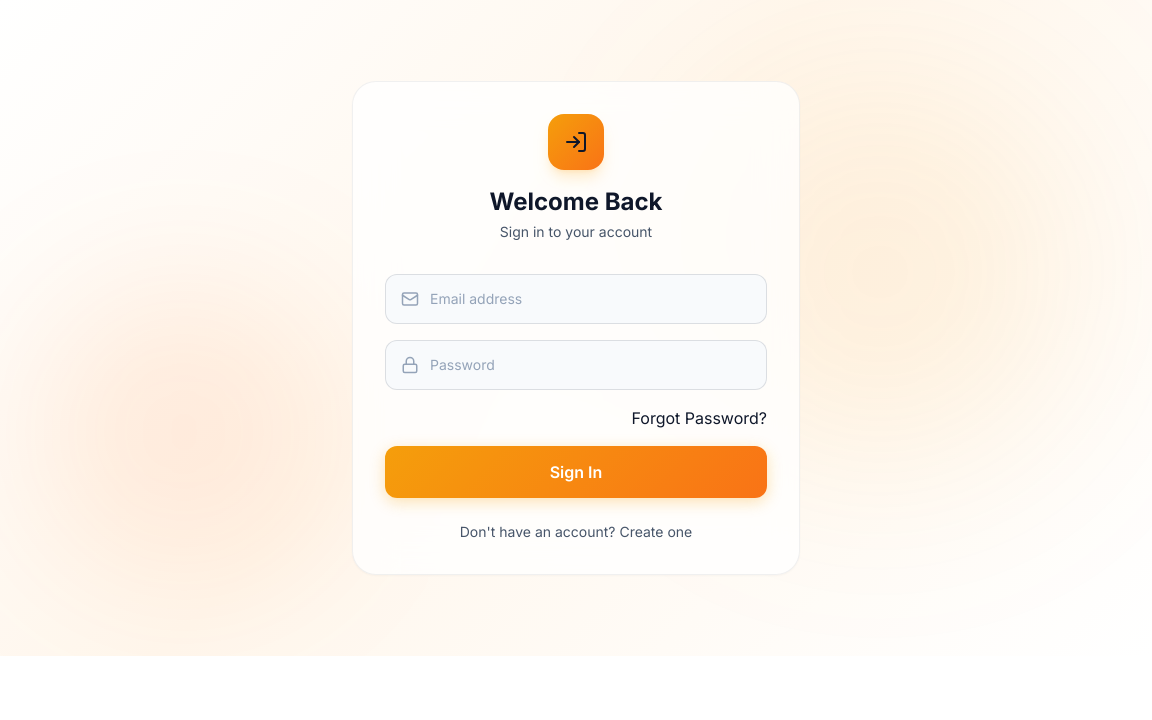
Test: Login error messages › still explains a lockout (423)
Type "rider@example.com" into the field with placeholder "Email address" at {"x": 576, "y": 299}, box [385, 274, 767, 324]
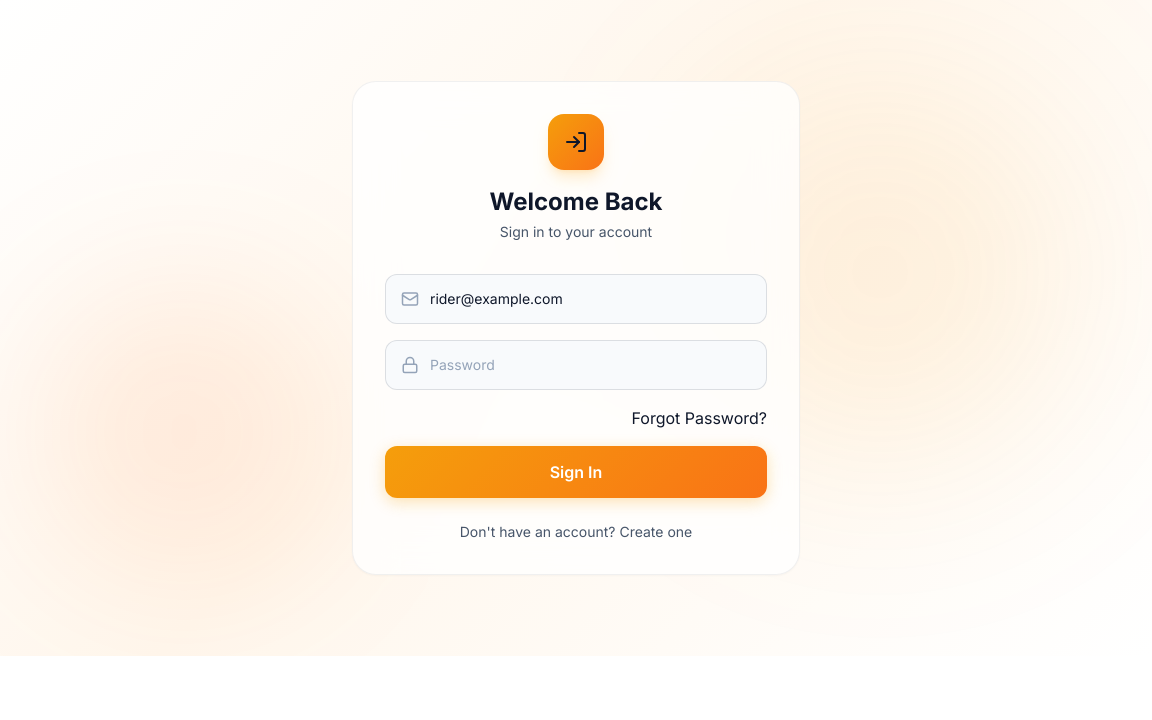
Type "wrong-password" into the password field with placeholder "Password" at {"x": 576, "y": 365}, box [385, 340, 767, 390]
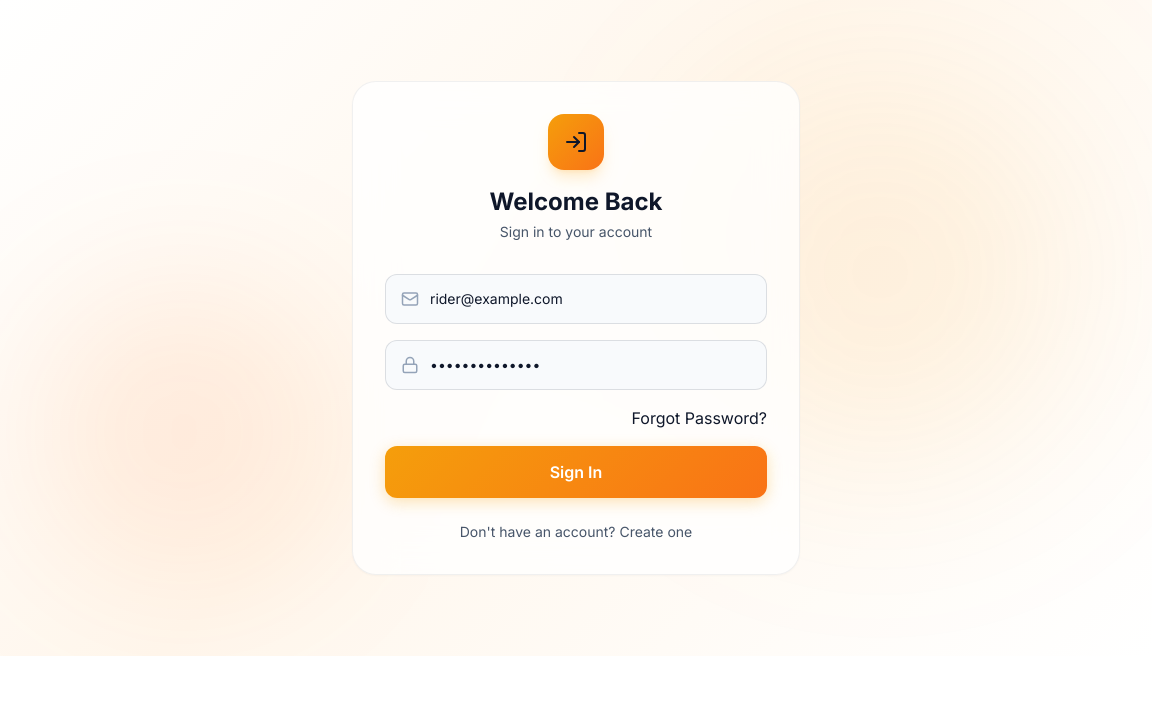
Click the button "Sign In" at {"x": 576, "y": 472}, box [385, 446, 767, 498]
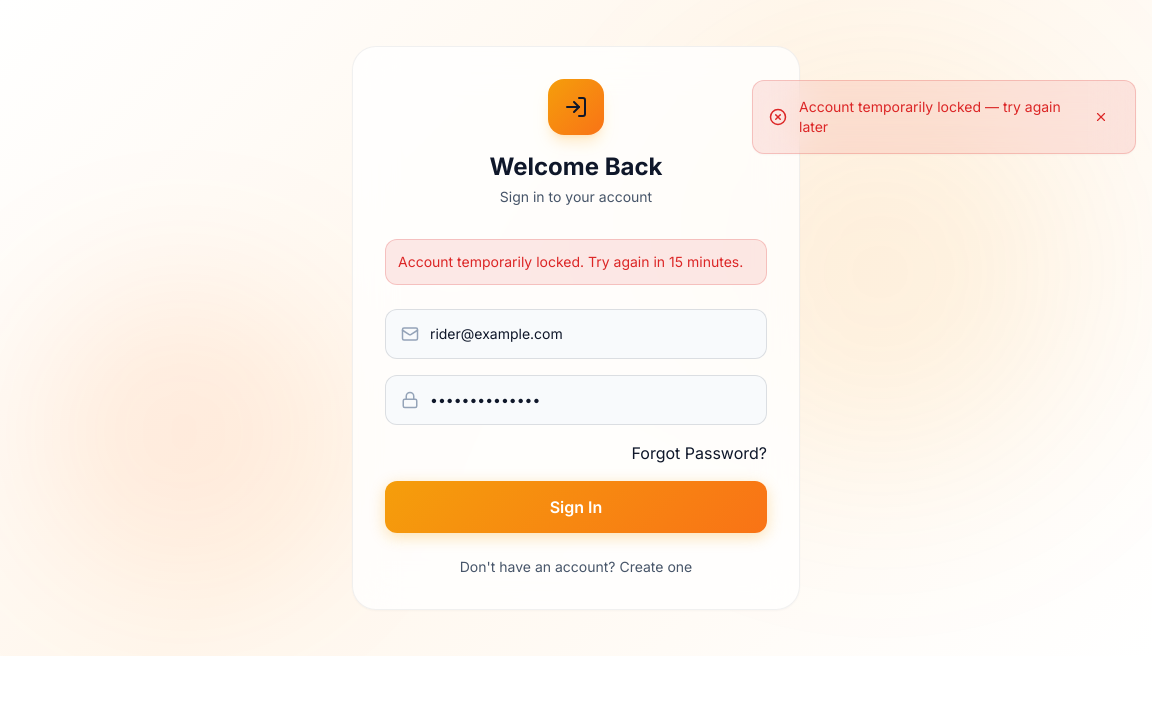
Check: the text "Account temporarily locked. Try again in 15 minutes." is shown 2 times, box [385, 239, 767, 285]; [799, 97, 1071, 137]
